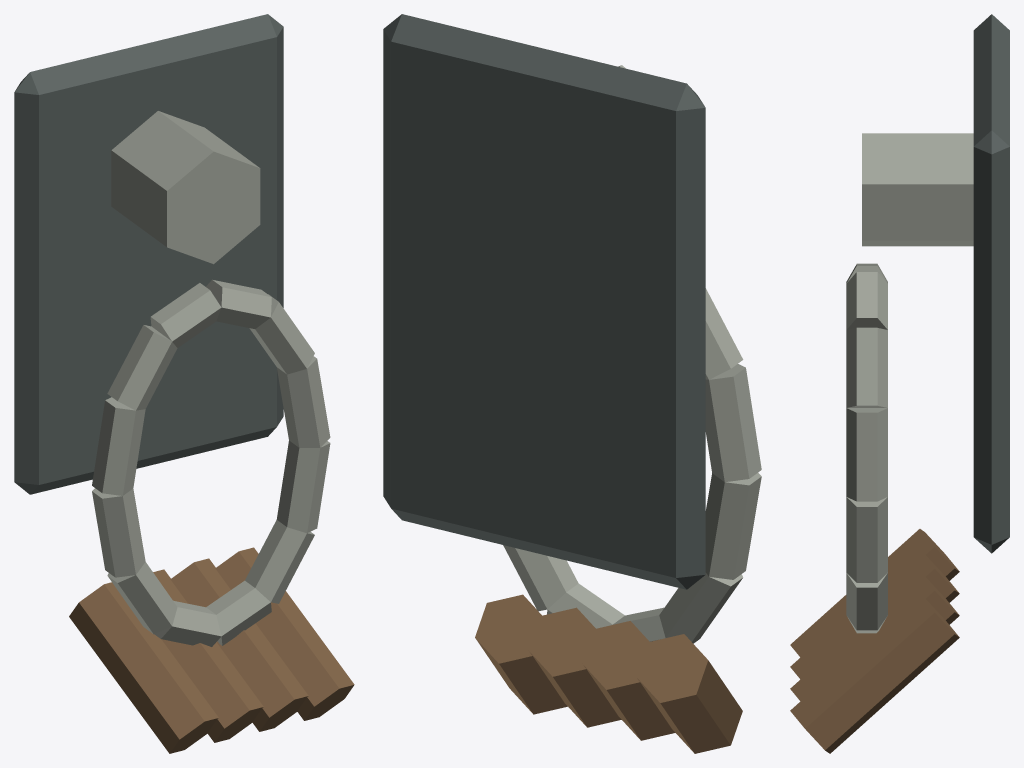
File: anchor.glb
3 renders of one model, left to right at view 1: azimuth 30°, elevation 25°; view 2: azimuth 150°, elevation 25°; view 3: azimuth 270°, elevation 25°, orthographic. The views are drawn at different scales.
Parts seen in each view (by area): view 1: bolt plate, bolt, knot, knot.003, knot.002, knot.001, carabiner.009, carabiner.003, carabiner.008, carabiner.002, carabiner.010, carabiner.004 (+6 smaller); view 2: bolt plate, knot, knot.003, knot.002, knot.001, carabiner.009, carabiner.008, carabiner.007, carabiner.004, carabiner.010, carabiner.005, carabiner.006; view 3: bolt plate, bolt, knot.003, carabiner.002, carabiner.003, carabiner.001, knot.002, knot.001, knot, carabiner, carabiner.004.
Part boxes in pixels (left/top/right/bottom): bolt plate: left=14, top=14, right=283, bottom=494; bolt: left=111, top=111, right=260, bottom=264; knot: left=69, top=582, right=218, bottom=753; knot.003: left=215, top=547, right=354, bottom=720; knot.002: left=170, top=558, right=308, bottom=731; knot.001: left=153, top=569, right=263, bottom=742; carabiner.009: left=92, top=397, right=145, bottom=495; carabiner.003: left=276, top=440, right=330, bottom=532; carabiner.008: left=92, top=488, right=145, bottom=577; carabiner.002: left=276, top=356, right=330, bottom=447; carabiner.010: left=107, top=325, right=177, bottom=410; carabiner.004: left=245, top=520, right=314, bottom=603; bolt plate: left=383, top=14, right=705, bottom=589; knot: left=636, top=634, right=742, bottom=753; knot.003: left=475, top=594, right=567, bottom=714; knot.002: left=528, top=607, right=621, bottom=727; knot.001: left=582, top=621, right=675, bottom=740; carabiner.009: left=705, top=364, right=761, bottom=482; carabiner.008: left=705, top=473, right=761, bottom=579; carabiner.007: left=659, top=573, right=743, bottom=643; carabiner.004: left=503, top=545, right=578, bottom=611; carabiner.010: left=705, top=288, right=743, bottom=379; carabiner.005: left=547, top=583, right=624, bottom=628; carabiner.006: left=613, top=607, right=665, bottom=641; bolt plate: left=973, top=14, right=1009, bottom=553; bolt: left=862, top=133, right=973, bottom=246; knot.003: left=790, top=594, right=959, bottom=753; carabiner.002: left=846, top=408, right=887, bottom=501; carabiner.003: left=846, top=497, right=887, bottom=582; carabiner.001: left=846, top=327, right=887, bottom=407; knot.002: left=790, top=572, right=959, bottom=700; knot.001: left=790, top=550, right=959, bottom=679; knot: left=790, top=529, right=959, bottom=657; carabiner: left=846, top=272, right=887, bottom=329; carabiner.004: left=846, top=573, right=887, bottom=630.
Bounding box in the file's own units: 0.06 × 0.1356 × 0.0424.
